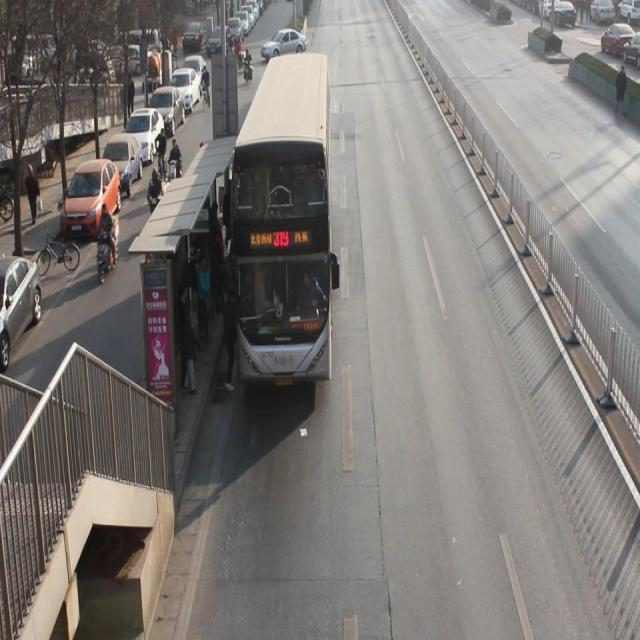car: (261, 28, 305, 57)
van: (230, 56, 332, 384)
